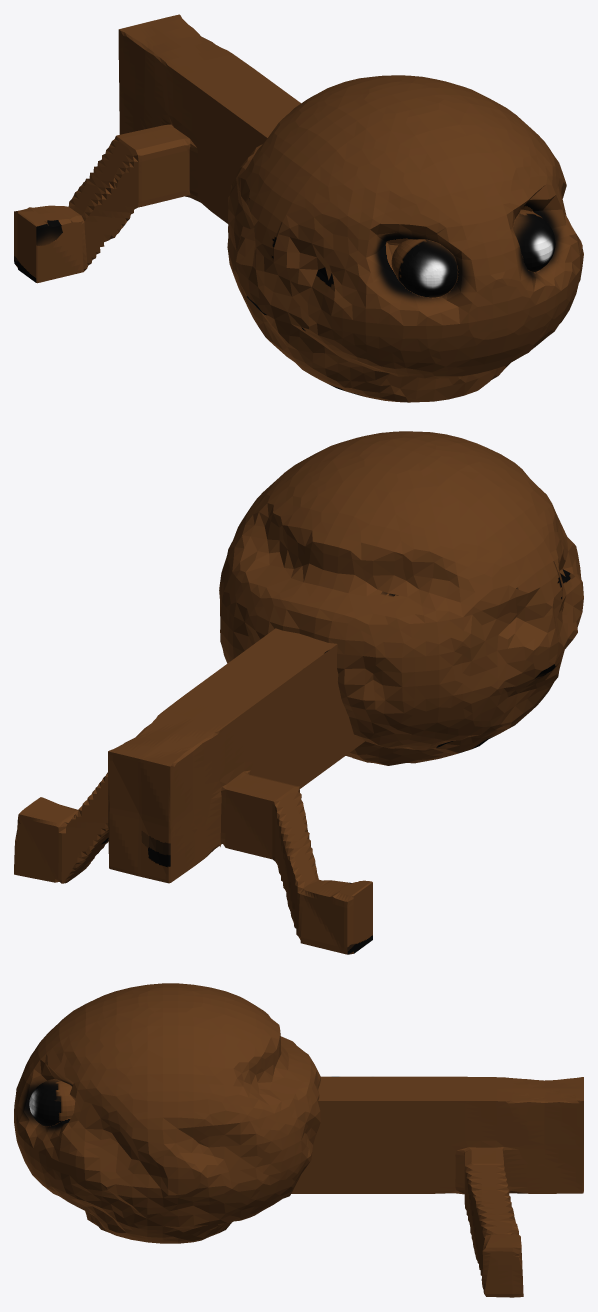
The model's file is needle_Body.obj.
3 renders of one model, top to bottom at view 1: azimuth 30°, elevation 25°; view 2: azimuth 150°, elevation 25°; view 3: azimuth 270°, elevation 25°, orthographic. The views are drawn at different scales.
Parts seen in each view (by area): view 1: 立方体; view 2: 立方体; view 3: 立方体.
Part boxes in pixels (x1=…): 立方体: x1=14, y1=14, x2=583, y2=402; 立方体: x1=14, y1=431, x2=583, y2=954; 立方体: x1=14, y1=983, x2=583, y2=1297.
Size of the model in its own units: 1.47 by 1.25 by 2.7.
1 material, 1 textured.
